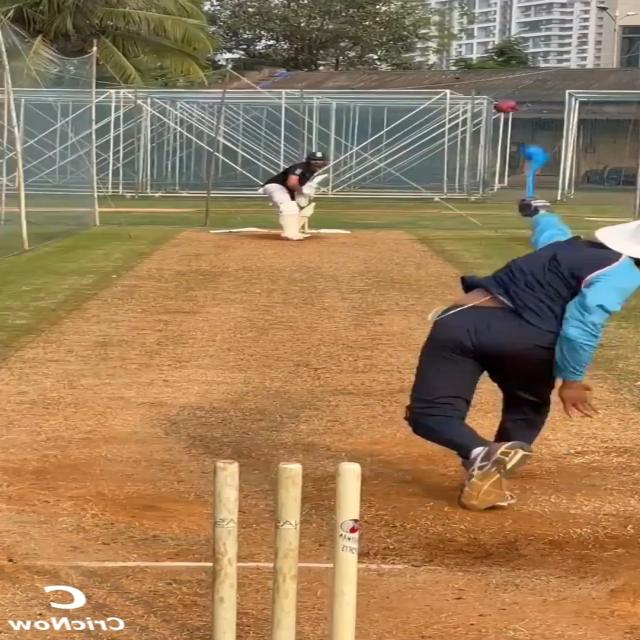ball: (492, 99, 520, 114)
stump: (211, 458, 361, 640)
